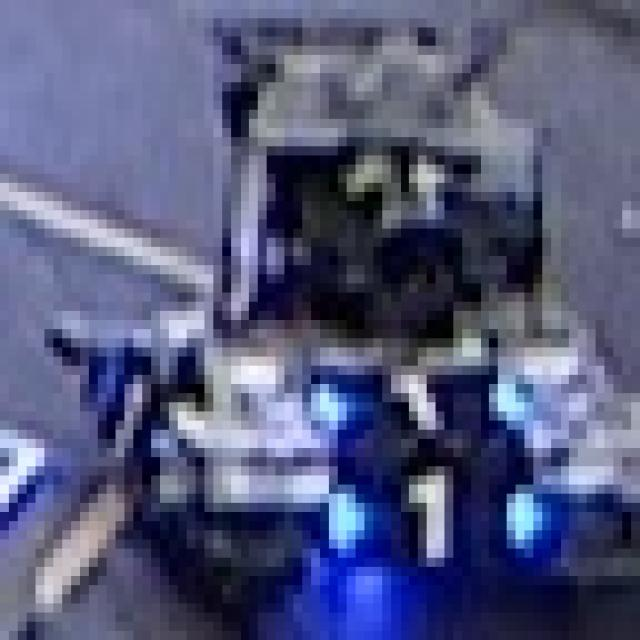B1: (320, 457, 542, 567), (302, 366, 534, 439)
